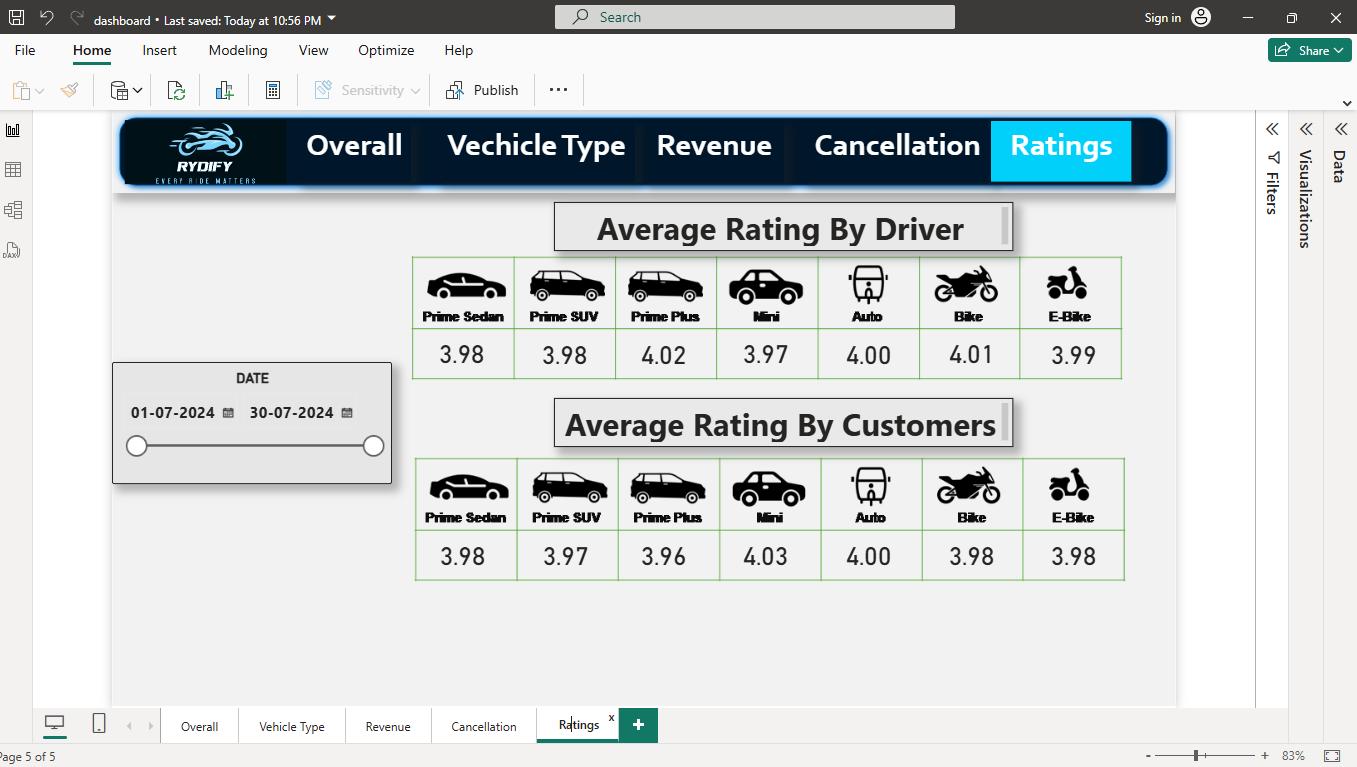

What the dashboard file says about the page in this screenshot:
{"tool":"powerbi","page":{"name":"Ratings","canvas":[1280,720],"ordinal":4},"visuals":[{"type":"shape","box":[0,0,1280,100],"z":0},{"type":"textbox","box":[224,13.3,136,73.3],"z":1000},{"type":"textbox","box":[392,13.3,237.3,73.3],"z":2000},{"type":"textbox","box":[640,13.3,169.3,73.3],"z":3000},{"type":"textbox","box":[833.3,13.3,225.3,73.3],"z":4000},{"type":"textbox","box":[1058.7,13.3,169.3,73.3],"z":5000},{"type":"image","box":[14.7,6.7,200,86.7],"z":6000},{"type":"actionButton","box":[392,10.7,237.3,76],"z":7000},{"type":"actionButton","box":[640,13.3,169.3,73.3],"z":8000},{"type":"actionButton","box":[214.7,10.7,156,73.3],"z":9000},{"type":"actionButton","box":[833.3,12,225.3,73.3],"z":10000},{"type":"card","fields":{"Values":["Avg(cleaned_kanpur_data.Driver_Ratings)"]},"box":[360,262.8,122.2,59.1],"z":11000},{"type":"card","fields":{"Values":["Avg(cleaned_kanpur_data.Driver_Ratings)"]},"box":[482.6,263.4,123.6,60.3],"z":12000},{"type":"card","fields":{"Values":["Avg(cleaned_kanpur_data.Driver_Ratings)"]},"box":[601.7,263.4,123.6,60.3],"z":13000},{"type":"card","fields":{"Values":["Avg(cleaned_kanpur_data.Driver_Ratings)"]},"box":[725.3,261.9,123.6,60.3],"z":14000},{"type":"card","fields":{"Values":["Avg(cleaned_kanpur_data.Driver_Ratings)"]},"box":[848.9,263.4,123.6,60.3],"z":15000},{"type":"card","fields":{"Values":["Avg(cleaned_kanpur_data.Driver_Ratings)"]},"box":[972.5,261.9,123.6,60.3],"z":16000},{"type":"card","fields":{"Values":["Avg(cleaned_kanpur_data.Driver_Ratings)"]},"box":[1096.1,263.4,123.6,60.3],"z":17000},{"type":"card","fields":{"Values":["Avg(cleaned_kanpur_data.Customer_Rating)"]},"box":[360.5,506.1,123.6,60.3],"z":18000},{"type":"card","fields":{"Values":["Avg(cleaned_kanpur_data.Customer_Rating)"]},"box":[484,506.1,123.6,60.3],"z":19000},{"type":"card","fields":{"Values":["Avg(cleaned_kanpur_data.Customer_Rating)"]},"box":[601.7,506.1,123.6,60.3],"z":20000},{"type":"card","fields":{"Values":["Avg(cleaned_kanpur_data.Customer_Rating)"]},"box":[725.3,506.1,123.6,60.3],"z":21000},{"type":"card","fields":{"Values":["Avg(cleaned_kanpur_data.Customer_Rating)"]},"box":[848.9,506.1,123.6,60.3],"z":22000},{"type":"card","fields":{"Values":["Avg(cleaned_kanpur_data.Customer_Rating)"]},"box":[972.5,506.1,123.6,60.3],"z":23000},{"type":"card","fields":{"Values":["Avg(cleaned_kanpur_data.Customer_Rating)"]},"box":[1096.1,506.1,123.6,60.3],"z":24000},{"type":"textbox","box":[532.6,110.3,553.2,58.9],"z":25000},{"type":"textbox","box":[532.6,347.2,553.2,58.9],"z":26000},{"type":"slicer","title":"DATE","fields":{"Values":["cleaned_kanpur_data.Date"]},"box":[0,303.1,336.9,147.1],"z":27000}]}

Visuals, with their boxes on the page's 1280x720 design canvas (x1, y1, x2, y2). These are canvas units, not pixel positions in the 1357x767 screenshot, which may show the page scaled, cropped or inside an application window:
shape: BBox(0, 0, 1280, 100)
textbox: BBox(224, 13, 360, 87)
textbox: BBox(392, 13, 629, 87)
textbox: BBox(640, 13, 809, 87)
textbox: BBox(833, 13, 1059, 87)
textbox: BBox(1059, 13, 1228, 87)
image: BBox(15, 7, 215, 93)
actionButton: BBox(392, 11, 629, 87)
actionButton: BBox(640, 13, 809, 87)
actionButton: BBox(215, 11, 371, 84)
actionButton: BBox(833, 12, 1059, 85)
card - Avg(cleaned_kanpur_data.Driver_Ratings): BBox(360, 263, 482, 322)
card - Avg(cleaned_kanpur_data.Driver_Ratings): BBox(483, 263, 606, 324)
card - Avg(cleaned_kanpur_data.Driver_Ratings): BBox(602, 263, 725, 324)
card - Avg(cleaned_kanpur_data.Driver_Ratings): BBox(725, 262, 849, 322)
card - Avg(cleaned_kanpur_data.Driver_Ratings): BBox(849, 263, 972, 324)
card - Avg(cleaned_kanpur_data.Driver_Ratings): BBox(972, 262, 1096, 322)
card - Avg(cleaned_kanpur_data.Driver_Ratings): BBox(1096, 263, 1220, 324)
card - Avg(cleaned_kanpur_data.Customer_Rating): BBox(360, 506, 484, 566)
card - Avg(cleaned_kanpur_data.Customer_Rating): BBox(484, 506, 608, 566)
card - Avg(cleaned_kanpur_data.Customer_Rating): BBox(602, 506, 725, 566)
card - Avg(cleaned_kanpur_data.Customer_Rating): BBox(725, 506, 849, 566)
card - Avg(cleaned_kanpur_data.Customer_Rating): BBox(849, 506, 972, 566)
card - Avg(cleaned_kanpur_data.Customer_Rating): BBox(972, 506, 1096, 566)
card - Avg(cleaned_kanpur_data.Customer_Rating): BBox(1096, 506, 1220, 566)
textbox: BBox(533, 110, 1086, 169)
textbox: BBox(533, 347, 1086, 406)
"DATE" slicer: BBox(0, 303, 337, 450)
